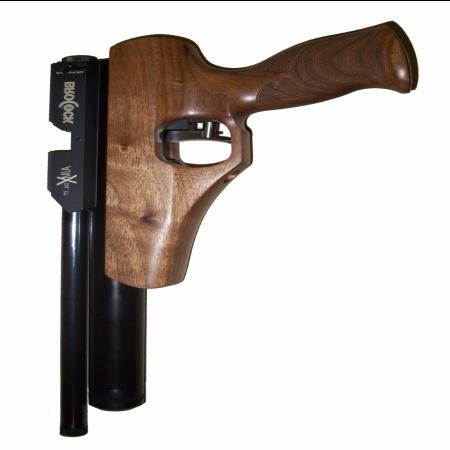Pistol: (35, 32, 438, 434)
